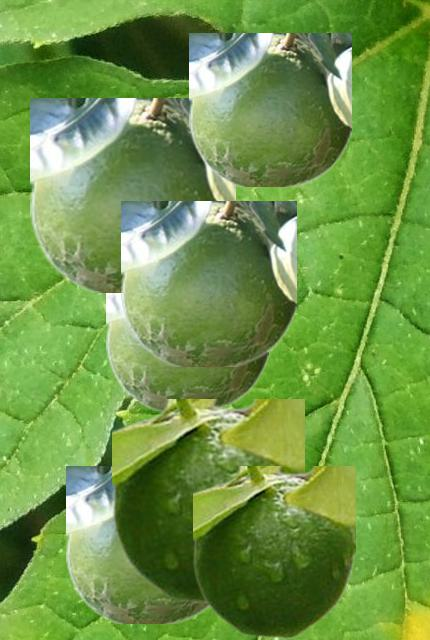dalandan: (30, 98, 234, 291), (112, 399, 303, 602), (121, 201, 295, 365), (193, 466, 354, 637), (189, 33, 350, 185), (66, 466, 208, 622), (106, 292, 267, 409)
